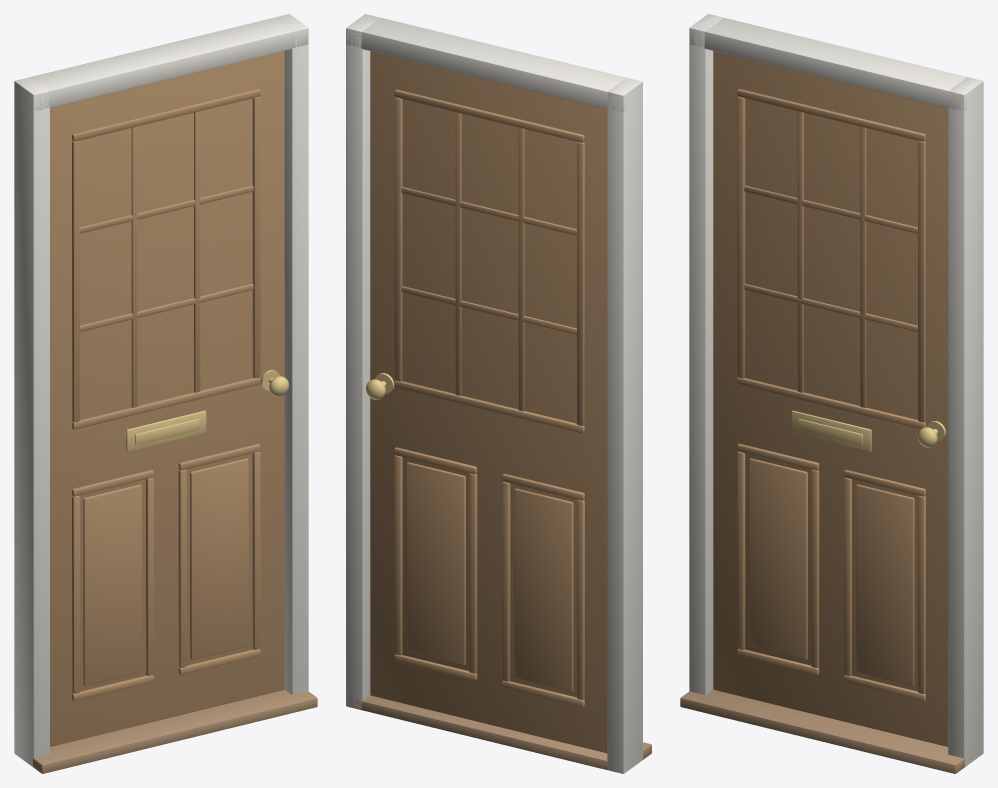
The model's file is front_glazed.glb.
3 views of the same model, side by side, from view 1: azimuth 30°, elevation 25°; view 2: azimuth 150°, elevation 25°; view 3: azimuth 330°, elevation 25° (orthographic).
Parts seen in each view (by area): view 1: front_glazed; view 2: front_glazed; view 3: front_glazed.
Part boxes in pixels (box(x1,y1,x2,y2)): front_glazed: box(14, 14, 317, 773); front_glazed: box(346, 14, 651, 773); front_glazed: box(680, 14, 983, 773).
Bounding box in the file's own units: 0.9 × 2.1 × 0.202.
